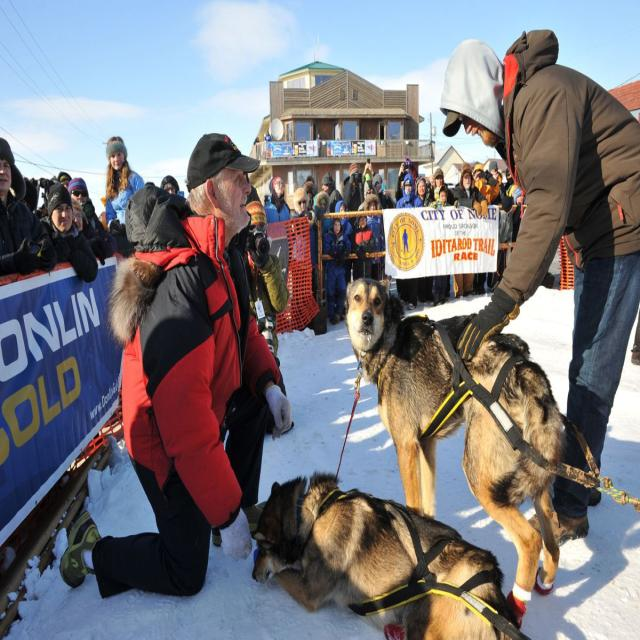body: (57, 129, 294, 601), (438, 25, 639, 556), (298, 155, 528, 212), (23, 170, 183, 243), (0, 136, 57, 278), (243, 200, 290, 372), (37, 182, 100, 284), (452, 161, 489, 300), (102, 133, 148, 234), (395, 172, 424, 311), (471, 162, 501, 296), (429, 184, 460, 308), (292, 187, 317, 330), (322, 215, 352, 328), (412, 177, 434, 303), (342, 162, 364, 283), (66, 176, 106, 241), (362, 193, 387, 283), (350, 208, 377, 282), (310, 190, 330, 273), (262, 176, 292, 224), (330, 200, 353, 254), (428, 166, 457, 206), (510, 187, 527, 254), (321, 172, 344, 214), (371, 173, 395, 210), (301, 180, 317, 211)
